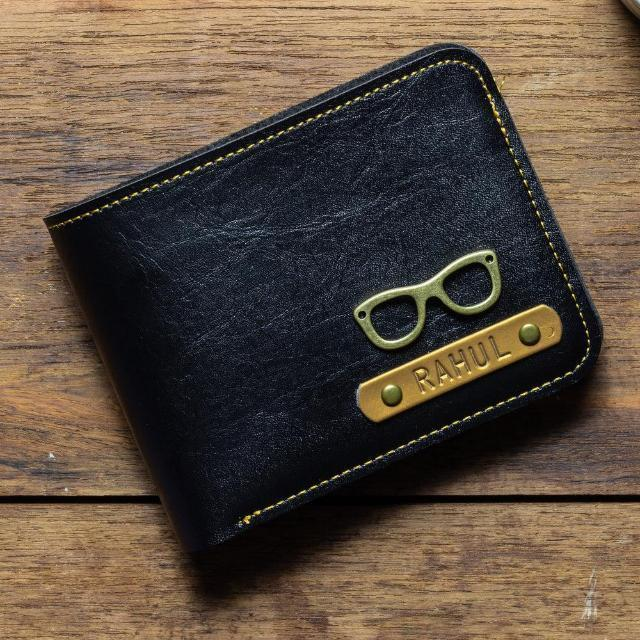wallet: (38, 36, 604, 584)
